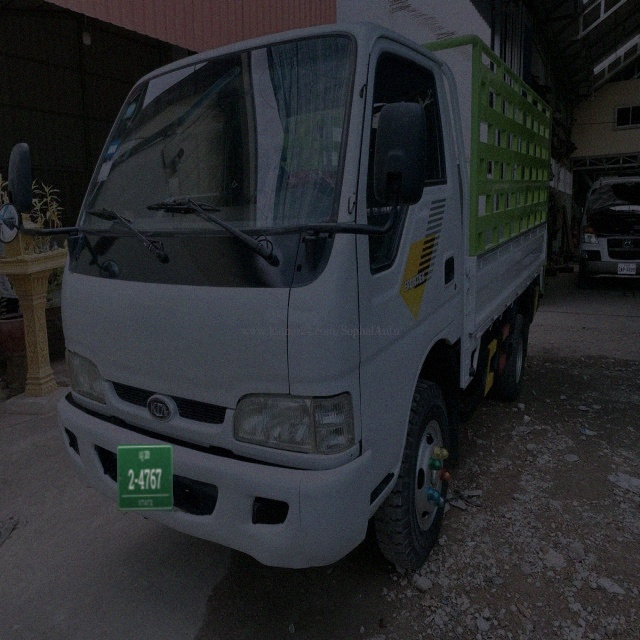Plate Number: (118, 444, 173, 512)
